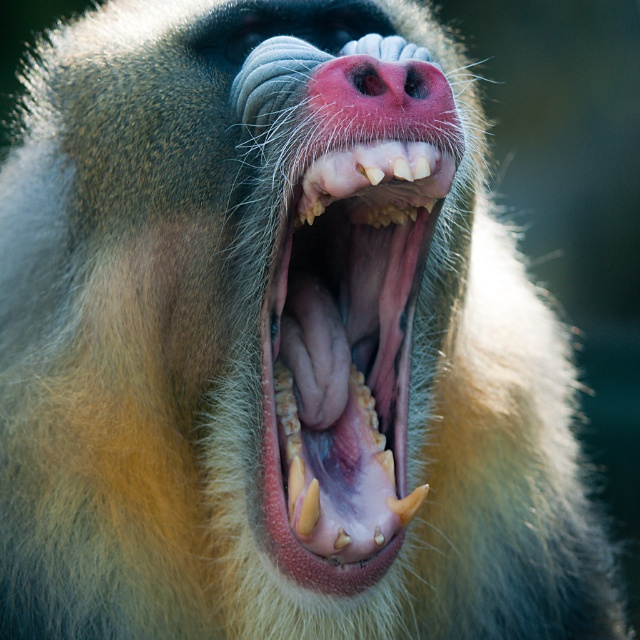Monkey: (0, 0, 636, 640)
